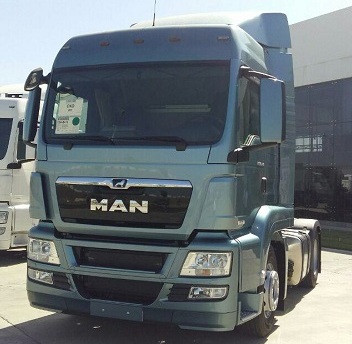truck: (12, 7, 325, 341)
